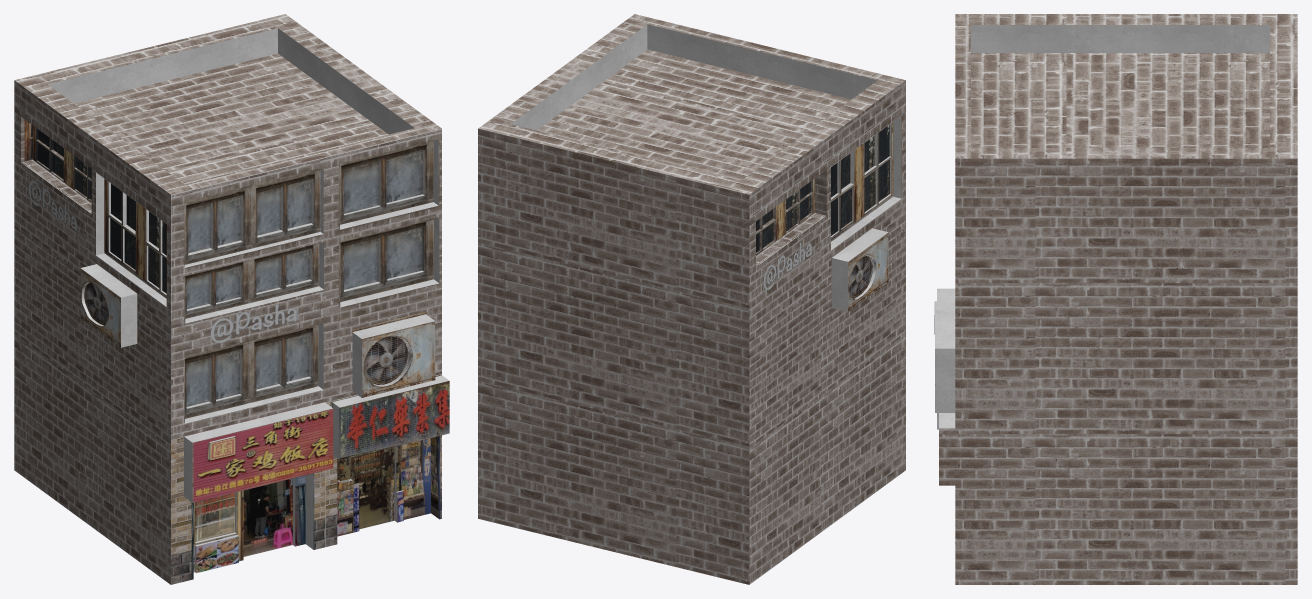
The model's file is building-3.glb.
3 renders of one model, left to right at view 1: azimuth 30°, elevation 25°; view 2: azimuth 150°, elevation 25°; view 3: azimuth 270°, elevation 25°, orthographic. The views are drawn at different scales.
Visible parts, largest first — view 1: SketchUp_Instance_2.002, SketchUp_Instance_2.008, SketchUp_Instance_2.011, SketchUp_Instance_2.001, SketchUp_Instance_2.012, SketchUp_Instance_2.006, SketchUp_Instance_2.009, SketchUp_Instance_2.089, SketchUp_Instance_2.053, SketchUp_Instance_2.033, SketchUp_Instance_2.027, SketchUp_Instance_2.028 (+39 smaller); view 2: SketchUp_Instance_2, SketchUp_Instance_2.002, SketchUp_Instance_2.011, SketchUp_Instance_2.001, SketchUp_Instance_2.012, SketchUp_Instance_2.003, SketchUp_Instance_2.063, SketchUp_Instance_2.005, SketchUp_Instance_2.064, SketchUp_Instance_2.004, SketchUp_Instance_2.031; view 3: SketchUp_Instance_2, SketchUp_Instance_2.011, SketchUp_Instance_2.001, SketchUp_Instance_2.012, SketchUp_Instance_2.014.
Part boxes in pixels (x1,y1,x2,y2): SketchUp_Instance_2.002: (14,80,170,584); SketchUp_Instance_2.008: (171,128,441,584); SketchUp_Instance_2.011: (74,53,388,184); SketchUp_Instance_2.001: (14,14,441,194); SketchUp_Instance_2.012: (48,28,414,134); SketchUp_Instance_2.006: (192,408,333,502); SketchUp_Instance_2.009: (339,381,449,459); SketchUp_Instance_2.089: (337,447,394,536); SketchUp_Instance_2.053: (184,170,320,264); SketchUp_Instance_2.033: (185,324,318,418); SketchUp_Instance_2.027: (243,478,292,556); SketchUp_Instance_2.028: (396,435,441,519); SketchUp_Instance_2: (478,128,749,584); SketchUp_Instance_2.002: (749,80,905,584); SketchUp_Instance_2.011: (537,49,851,180); SketchUp_Instance_2.001: (478,14,905,194); SketchUp_Instance_2.012: (511,24,877,130); SketchUp_Instance_2.003: (756,170,826,266); SketchUp_Instance_2.063: (831,122,893,241); SketchUp_Instance_2.005: (831,228,888,311); SketchUp_Instance_2.064: (831,116,901,249); SketchUp_Instance_2.004: (848,232,888,311); SketchUp_Instance_2.031: (849,255,873,298); SketchUp_Instance_2: (939,158,1297,584); SketchUp_Instance_2.011: (971,53,1269,147); SketchUp_Instance_2.001: (955,14,1297,158); SketchUp_Instance_2.012: (971,25,1269,52); SketchUp_Instance_2.014: (935,309,955,412).
Bounding box in the file's own units: 3.97 × 5.15 × 3.98.
6 materials, 5 textured.
